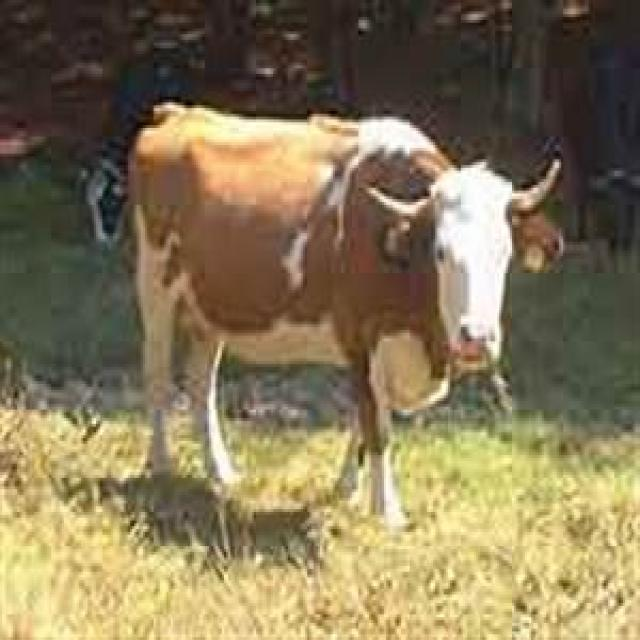cow: (122, 99, 565, 532)
